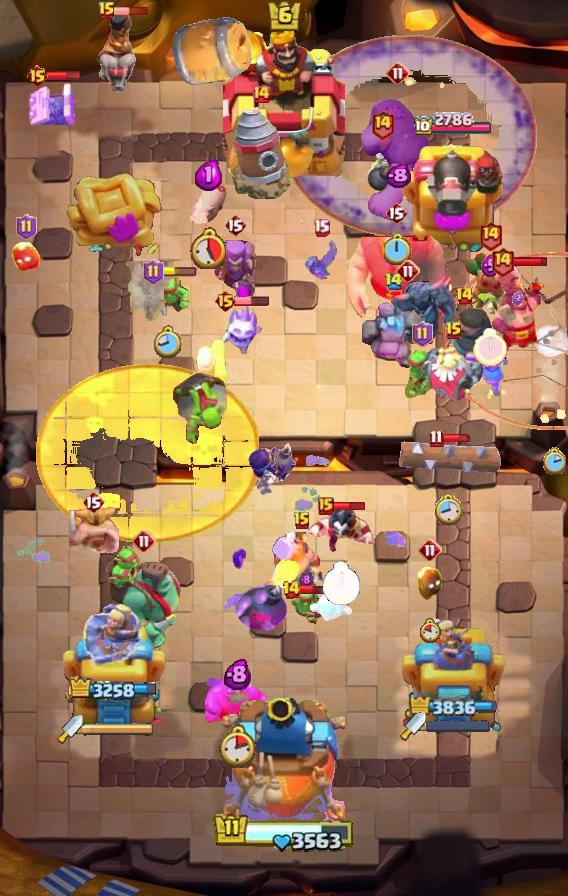bar: (298, 583, 333, 596), (234, 295, 270, 307), (332, 500, 367, 512), (512, 256, 549, 267), (46, 70, 81, 81), (161, 267, 197, 277), (114, 6, 149, 16), (441, 433, 473, 443)
bar-level: (490, 246, 515, 277), (478, 220, 503, 251), (370, 109, 395, 140), (418, 538, 442, 562), (132, 529, 156, 553), (396, 259, 420, 283), (386, 61, 410, 85), (214, 289, 237, 313), (26, 64, 49, 88), (412, 321, 433, 347), (143, 259, 164, 285), (16, 214, 37, 240), (82, 490, 104, 514), (224, 213, 246, 237), (385, 201, 407, 225), (251, 84, 271, 104), (282, 580, 301, 600), (455, 286, 474, 306), (384, 272, 403, 291), (293, 511, 311, 531), (445, 321, 463, 341), (98, 1, 116, 21), (313, 218, 330, 237), (318, 497, 334, 515), (429, 429, 444, 448)
bat-evolution: (303, 237, 339, 283)
bomb: (234, 557, 306, 631)
bomber: (364, 141, 400, 197)
bomber-evolution: (247, 442, 299, 498)
cannoneer-tower: (399, 138, 507, 256)
clock: (322, 561, 361, 606), (218, 724, 256, 768), (190, 227, 226, 269), (473, 328, 507, 367), (154, 325, 183, 360), (434, 494, 463, 527), (384, 233, 412, 265), (542, 447, 566, 475), (420, 618, 441, 643)
dagger-duchess-tower: (59, 595, 169, 731), (401, 615, 506, 731)
dagger-duchess-tower-bar: (83, 722, 155, 736), (426, 720, 490, 732)
dart-goblin: (461, 253, 519, 319)
dirt: (121, 261, 174, 327)
electro-wizard: (303, 503, 379, 557)
elite-barbarian: (67, 504, 119, 554)
elixir: (224, 658, 251, 690), (195, 159, 222, 191), (385, 163, 411, 189), (481, 253, 499, 277), (299, 571, 313, 589), (512, 291, 523, 305)
elixir-golem-mid: (205, 677, 269, 727)
executioner: (489, 262, 545, 350)
fire-spirit: (10, 240, 42, 274), (416, 564, 444, 602)
firecracker: (187, 336, 229, 394)
goblin-ball: (170, 368, 230, 444)
golemite: (362, 296, 424, 372)
hog: (187, 180, 229, 226)
ice-spirit: (309, 590, 355, 626)
ice-spirit-evolution: (220, 302, 264, 356)
king-tower: (223, 27, 345, 181), (223, 698, 345, 826)
king-tower-bar: (213, 813, 355, 854)
lumberjack: (271, 532, 333, 598)
mother-witch: (212, 235, 258, 303)
ram-rider: (96, 7, 140, 93)
royal-ghost: (423, 341, 485, 401)
spear-goblin: (145, 270, 191, 318), (405, 350, 439, 398), (287, 586, 325, 624)
tesla: (28, 79, 80, 129)
the-log: (395, 441, 502, 477)
tower-bar: (69, 676, 160, 703), (413, 112, 493, 138), (409, 697, 498, 716)
valkyrie: (462, 344, 510, 398)
